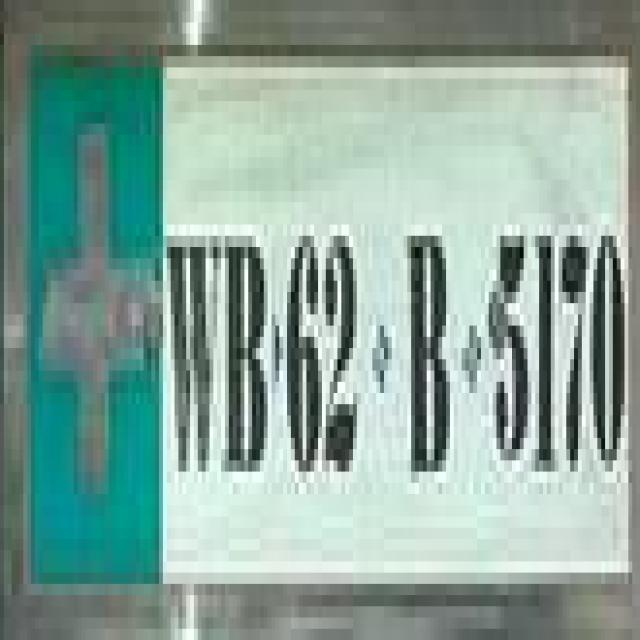license_plate: (11, 45, 640, 595)
